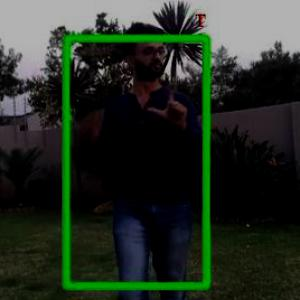land_hand: (143, 76, 197, 133)
